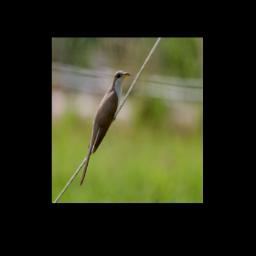Cuckoo: (78, 70, 131, 190)
